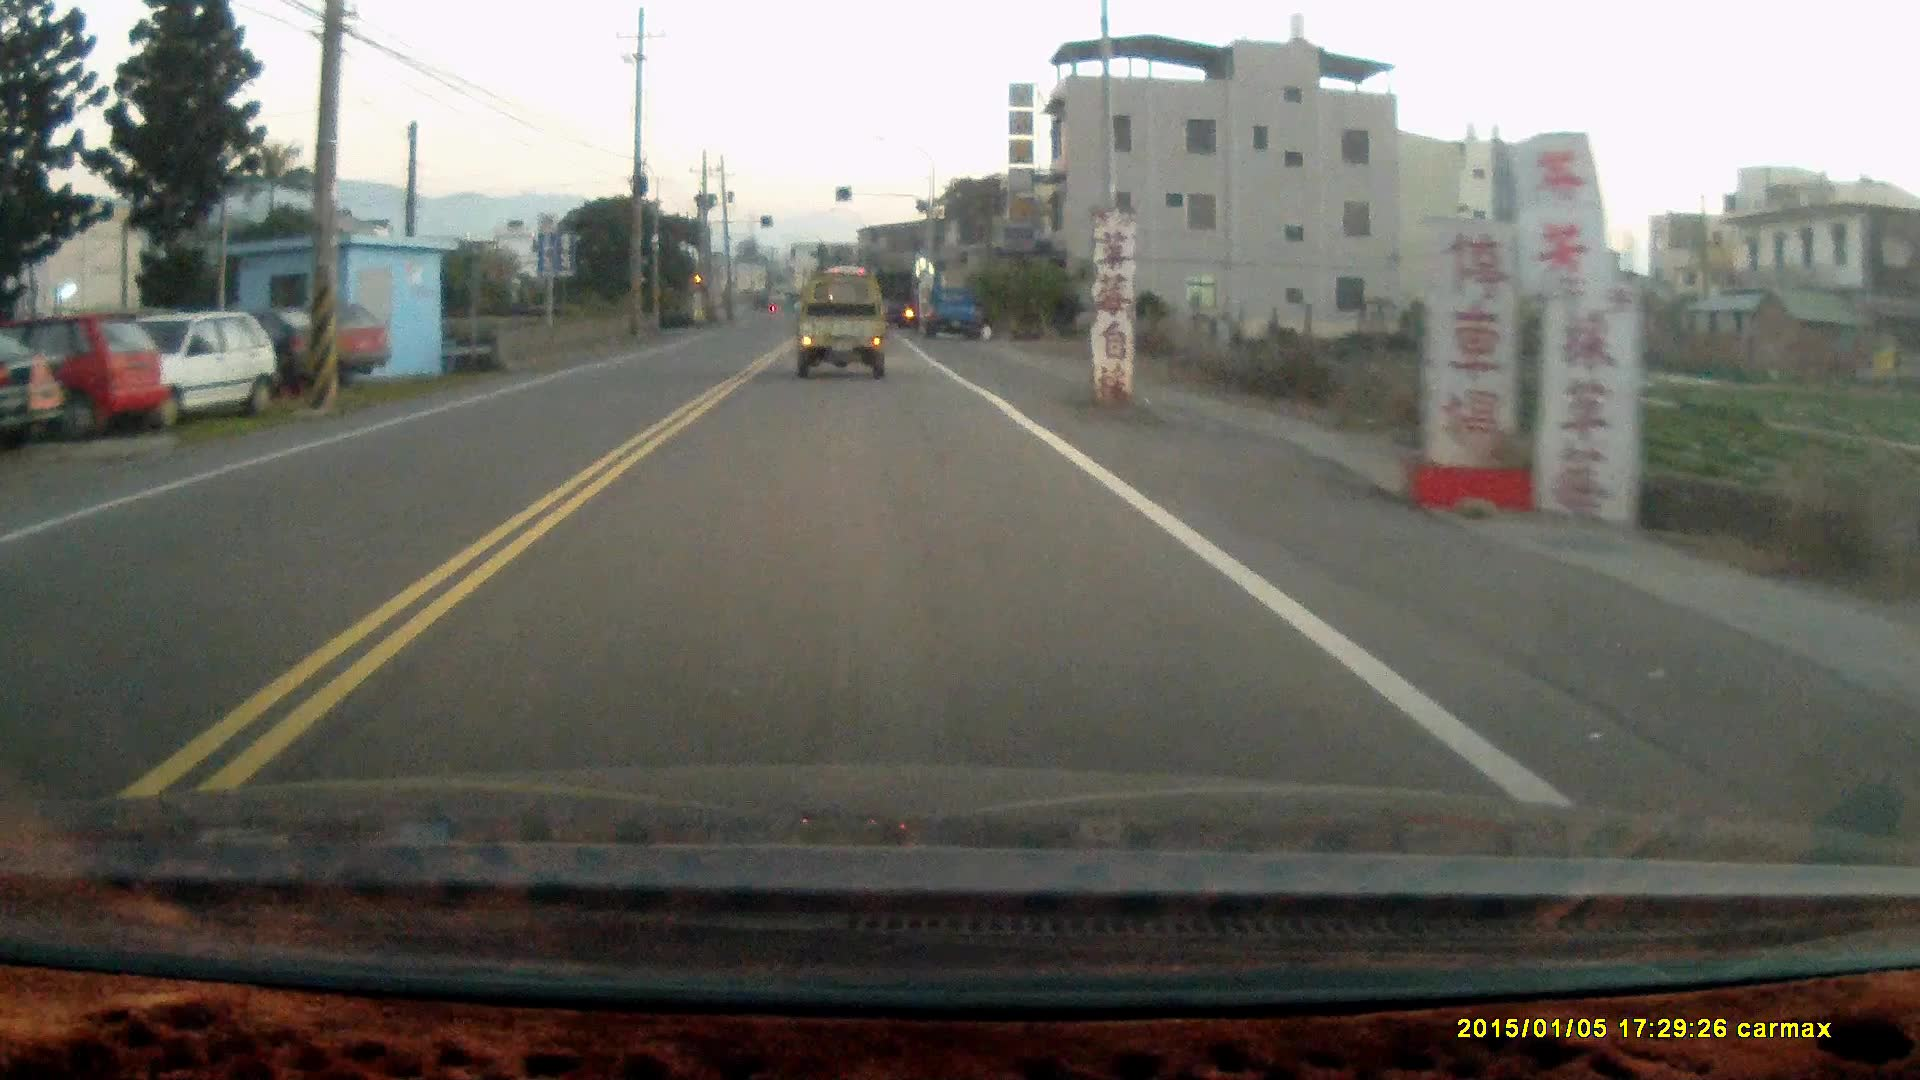vehicle: (1, 316, 183, 433), (84, 311, 280, 414), (232, 301, 398, 389), (796, 268, 893, 382), (916, 284, 986, 342)
